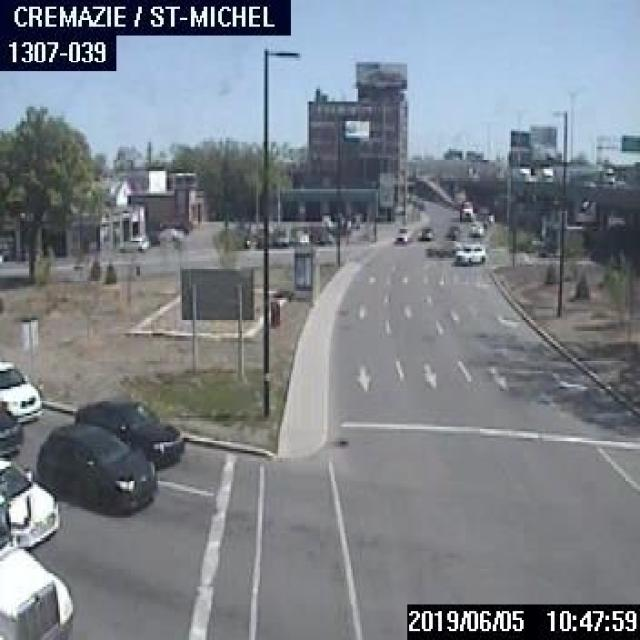vehicle: (0, 474, 73, 639), (36, 423, 156, 512), (73, 396, 182, 468), (0, 457, 58, 548), (0, 358, 40, 422), (0, 403, 22, 457), (451, 242, 485, 263), (118, 233, 146, 250), (526, 166, 552, 181), (389, 225, 410, 242), (598, 165, 616, 183), (459, 199, 472, 220), (416, 224, 434, 238), (468, 219, 483, 235), (445, 225, 458, 238)
